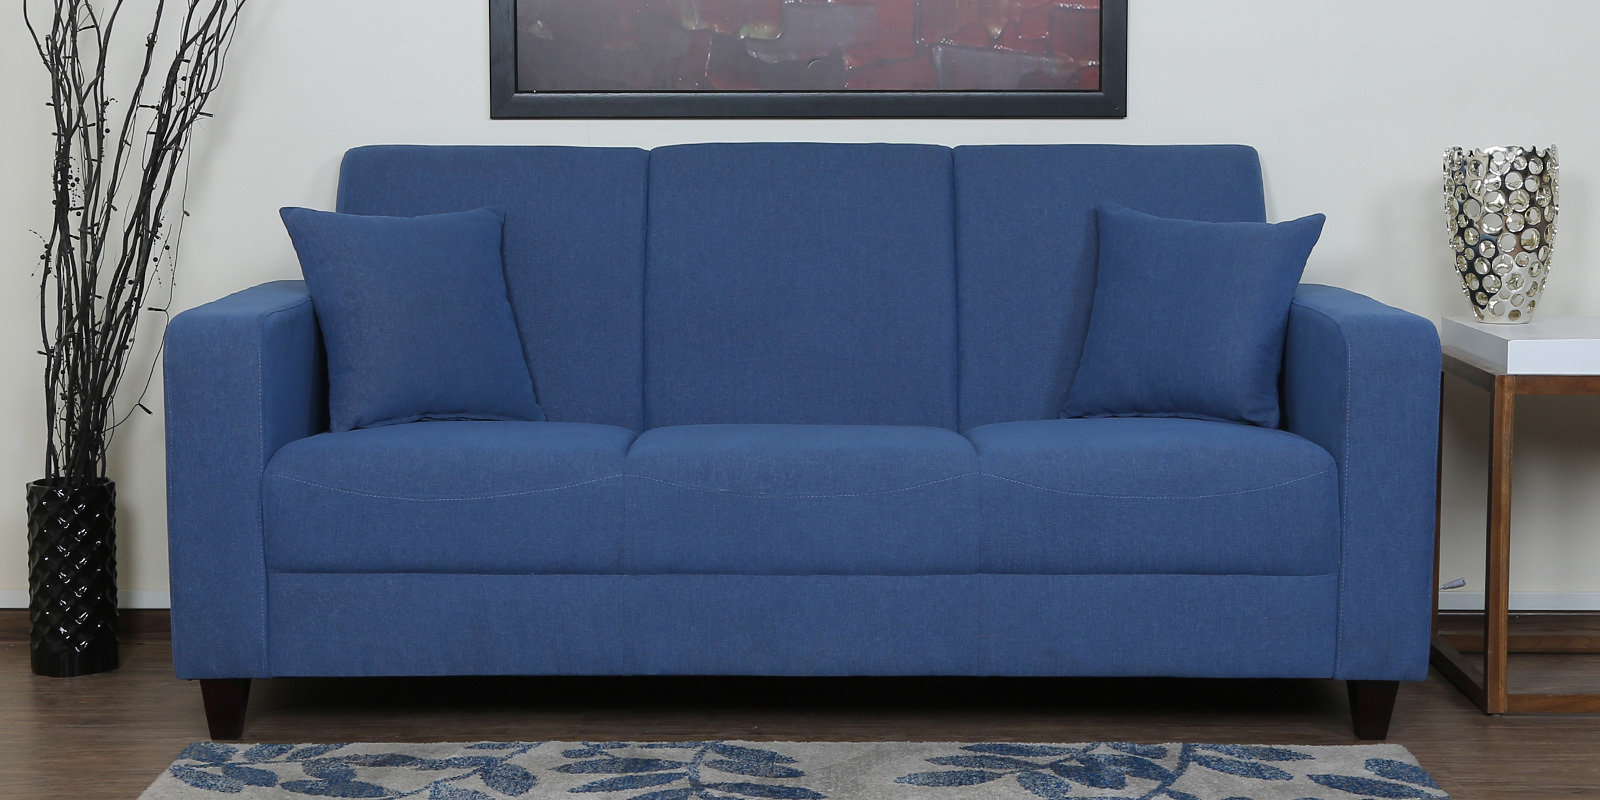Alba Three seater Seater Sofa in Denim Blue Colour by CasaCraft: (149, 132, 1431, 758)
